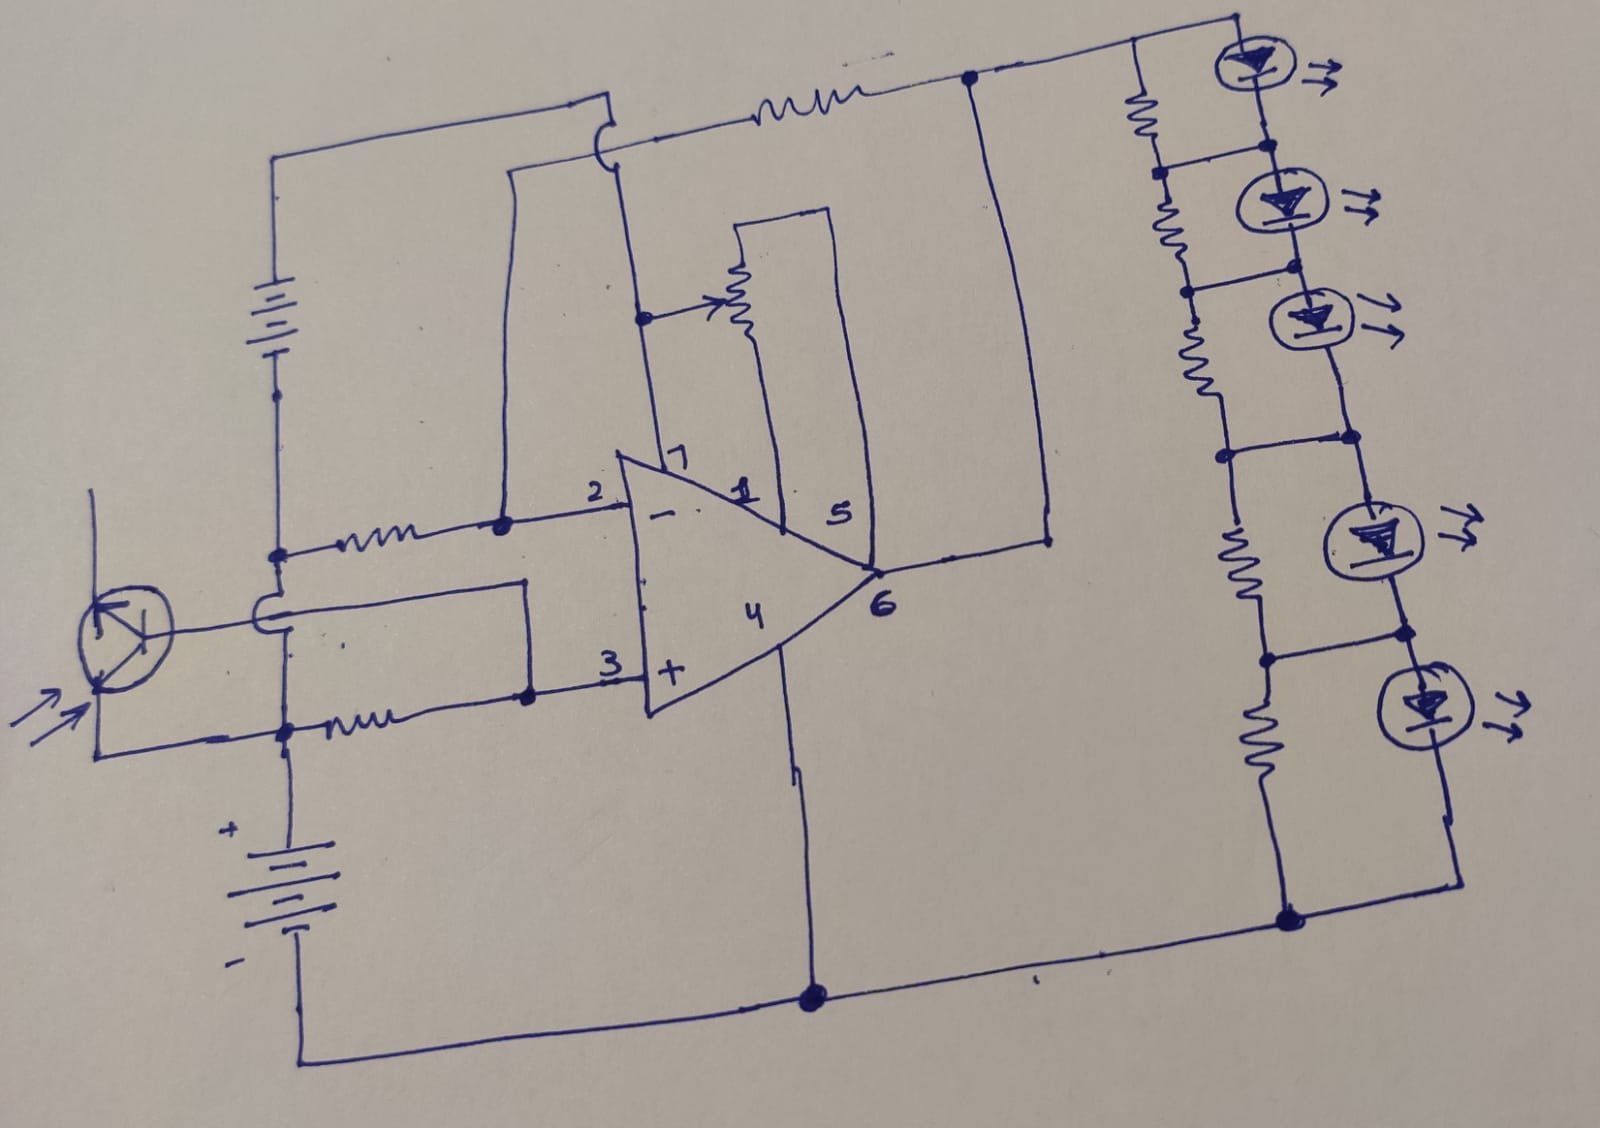crossover: (247, 588, 299, 638), (589, 112, 625, 176)
diode.light_emitting: (1375, 660, 1532, 754), (1321, 497, 1483, 585), (1233, 162, 1383, 234), (1266, 284, 1407, 354), (1213, 31, 1346, 95)
junction: (787, 973, 834, 1021), (1268, 901, 1314, 936), (1328, 419, 1371, 453), (483, 508, 524, 543), (262, 717, 303, 748), (508, 680, 548, 710), (951, 62, 989, 92), (284, 1049, 317, 1080), (1252, 638, 1281, 673), (1278, 251, 1313, 280), (1391, 616, 1421, 649), (1209, 439, 1244, 468), (1253, 129, 1283, 160), (509, 570, 539, 599), (1446, 868, 1476, 898), (1032, 526, 1062, 555), (262, 541, 293, 568), (85, 743, 114, 770), (1147, 157, 1172, 186), (1177, 281, 1200, 306), (497, 162, 522, 186), (629, 309, 657, 330), (1224, 7, 1249, 29), (596, 84, 618, 107), (1122, 31, 1145, 52), (816, 198, 838, 221), (262, 149, 284, 168), (726, 219, 746, 239)
operational_amplifier: (609, 446, 893, 723)
resistor: (744, 81, 870, 128), (1239, 682, 1284, 786), (1218, 520, 1264, 604), (1172, 319, 1218, 397), (330, 522, 420, 554), (1148, 193, 1190, 261), (319, 706, 395, 741), (1122, 81, 1161, 139)
resistor.adjustable: (688, 258, 766, 345)
terminal: (81, 479, 106, 509)
text: (729, 474, 762, 505), (654, 657, 688, 687), (868, 586, 898, 618), (665, 441, 696, 472), (597, 646, 624, 678), (741, 598, 766, 631), (825, 498, 853, 527), (585, 476, 607, 504), (646, 508, 679, 522)
transistor.photo: (9, 582, 175, 745)
voltage.dc: (214, 817, 341, 968), (245, 276, 303, 364)
